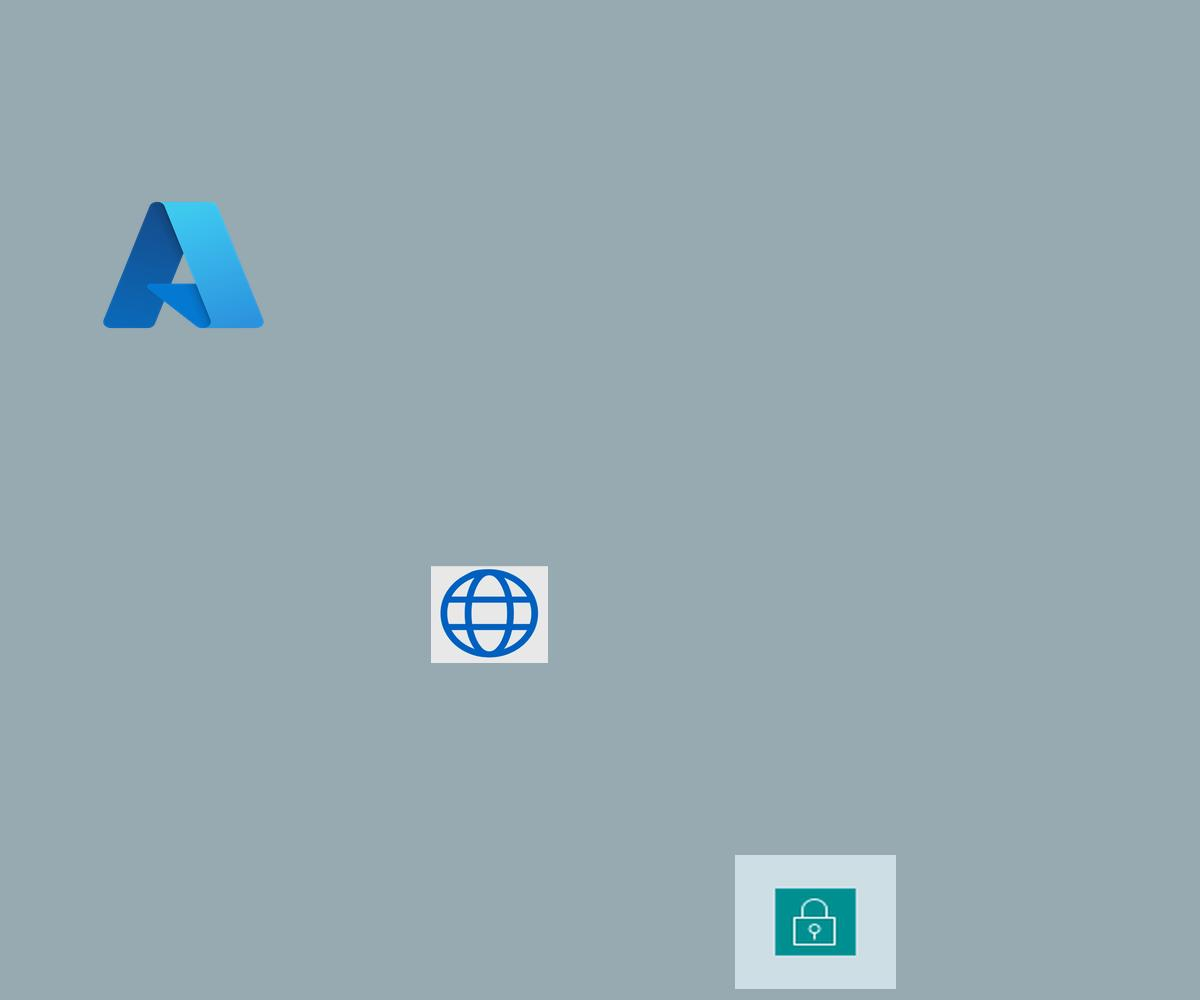AWS-Private-subnet: (735, 855, 896, 989)
Azure_http: (431, 566, 548, 663)
Azure_services: (96, 192, 271, 338)
